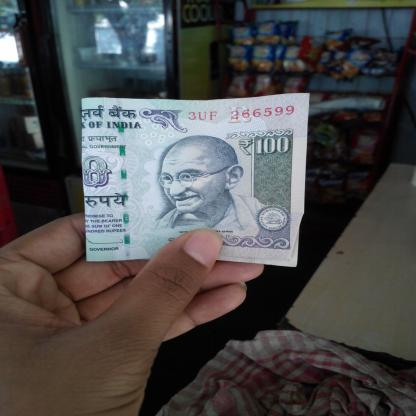Old100Front: (80, 92, 310, 268)
